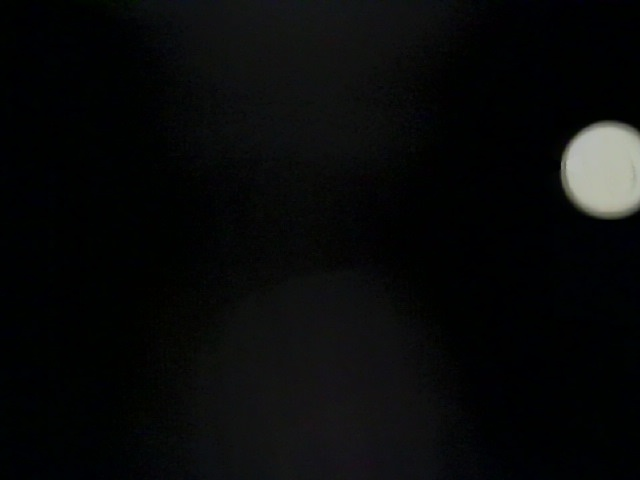CYLJ: (28, 307, 231, 480)
